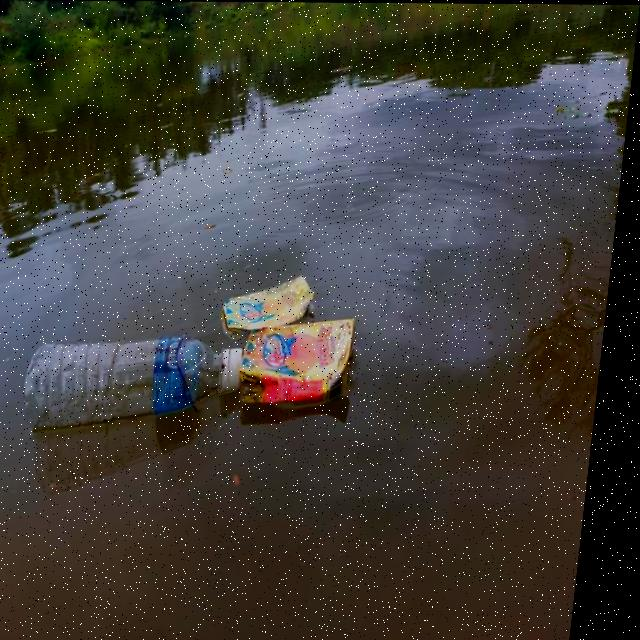paper: (249, 318, 368, 417), (221, 275, 332, 332)
waterbottle: (19, 335, 257, 448)
